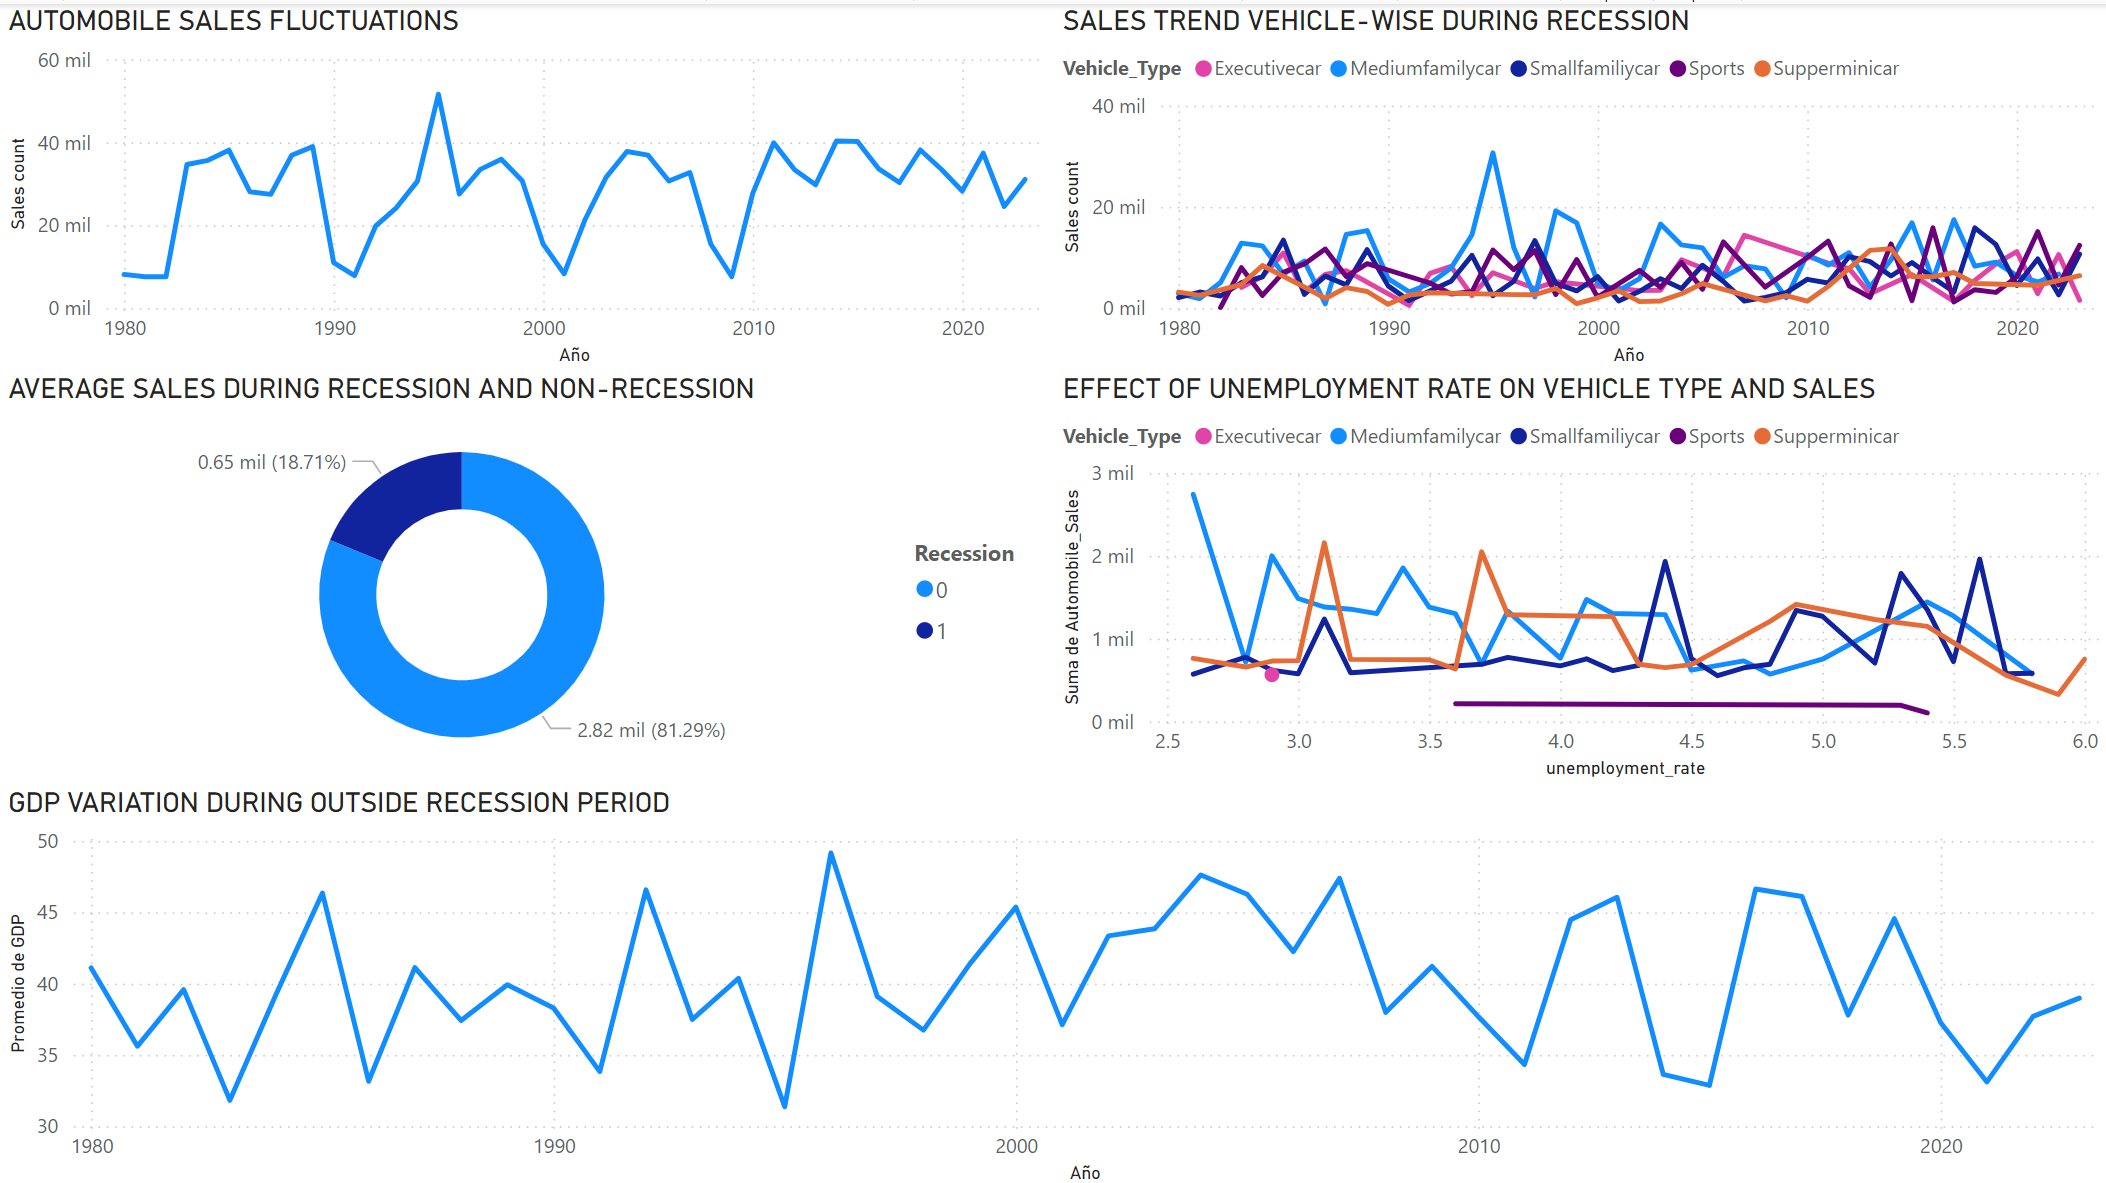

Layout of this report page (visuals, bound fields, positions):
{"tool":"powerbi","page":{"name":"Página 1","canvas":[1280,720],"ordinal":0},"visuals":[{"type":"lineChart","title":"AUTOMOBILE SALES FLUCTUATIONS","fields":{"Y":["Sum(historical_automobile_sales.Automobile_Sales)"],"Category":["historical_automobile_sales.Date.Variación.Jerarquía de fechas.Año"]},"box":[0,0,640,223.3],"z":0},{"type":"lineChart","title":"SALES TREND VEHICLE-WISE DURING RECESSION","fields":{"Y":["Sum(historical_automobile_sales.Automobile_Sales)"],"Series":["historical_automobile_sales.Vehicle_Type"],"Category":["historical_automobile_sales.Date.Variación.Jerarquía de fechas.Año"]},"box":[640,0,640,223.3],"z":1000},{"type":"donutChart","title":"AVERAGE SALES DURING RECESSION AND NON-RECESSION","fields":{"Y":["historical_automobile_sales.Avg_Automobile_Sales"],"Series":["historical_automobile_sales.Recession"]},"box":[0,223.3,640,251.1],"z":2000},{"type":"lineChart","title":"GDP VARIATION DURING OUTSIDE RECESSION PERIOD","fields":{"Y":["Avg(historical_automobile_sales.GDP)"],"Category":["historical_automobile_sales.Date.Variación.Jerarquía de fechas.Año"]},"box":[0,474.4,1280,245.6],"z":3001},{"type":"lineChart","title":"EFFECT OF UNEMPLOYMENT RATE ON VEHICLE TYPE AND SALES","fields":{"Y":["Sum(historical_automobile_sales.Automobile_Sales)"],"Category":["historical_automobile_sales.unemployment_rate"],"Series":["historical_automobile_sales.Vehicle_Type"]},"box":[640,223.3,640,251.1],"z":3003}]}

Visuals, with their boxes in screenshot pixels (x1, y1, x2, y2), scaled from the page's 1280x720 canvas onto the 2106x1183 screenshot:
"AUTOMOBILE SALES FLUCTUATIONS" lineChart: 0, 0, 1053, 367
"SALES TREND VEHICLE-WISE DURING RECESSION" lineChart: 1053, 0, 2105, 367
"AVERAGE SALES DURING RECESSION AND NON-RECESSION" donutChart: 0, 367, 1053, 779
"GDP VARIATION DURING OUTSIDE RECESSION PERIOD" lineChart: 0, 779, 2105, 1182
"EFFECT OF UNEMPLOYMENT RATE ON VEHICLE TYPE AND SALES" lineChart: 1053, 367, 2105, 779
